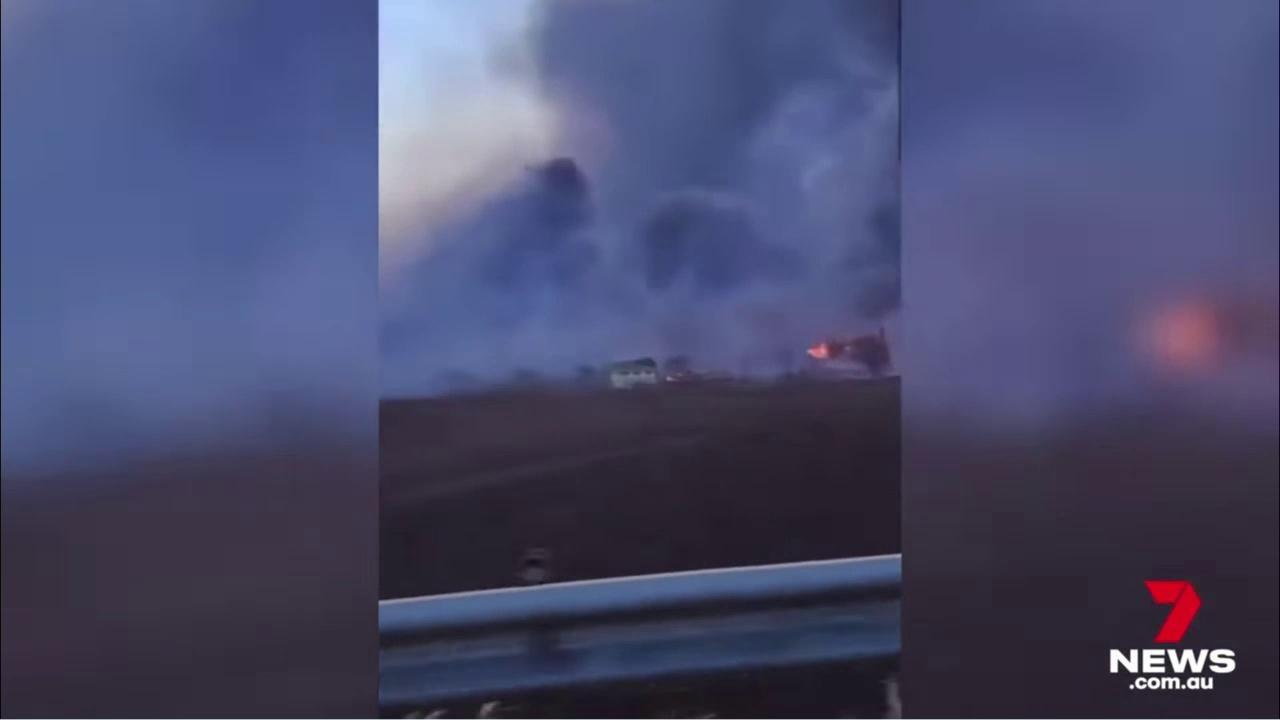fire: (802, 337, 833, 362)
smoke: (380, 0, 901, 401)
